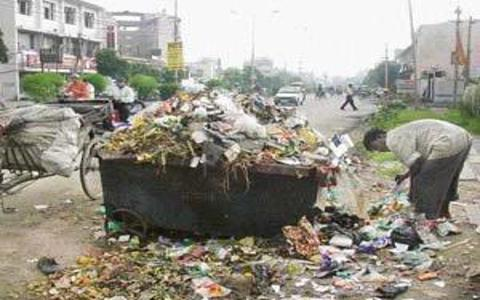overflowing garbage: (89, 86, 328, 257)
